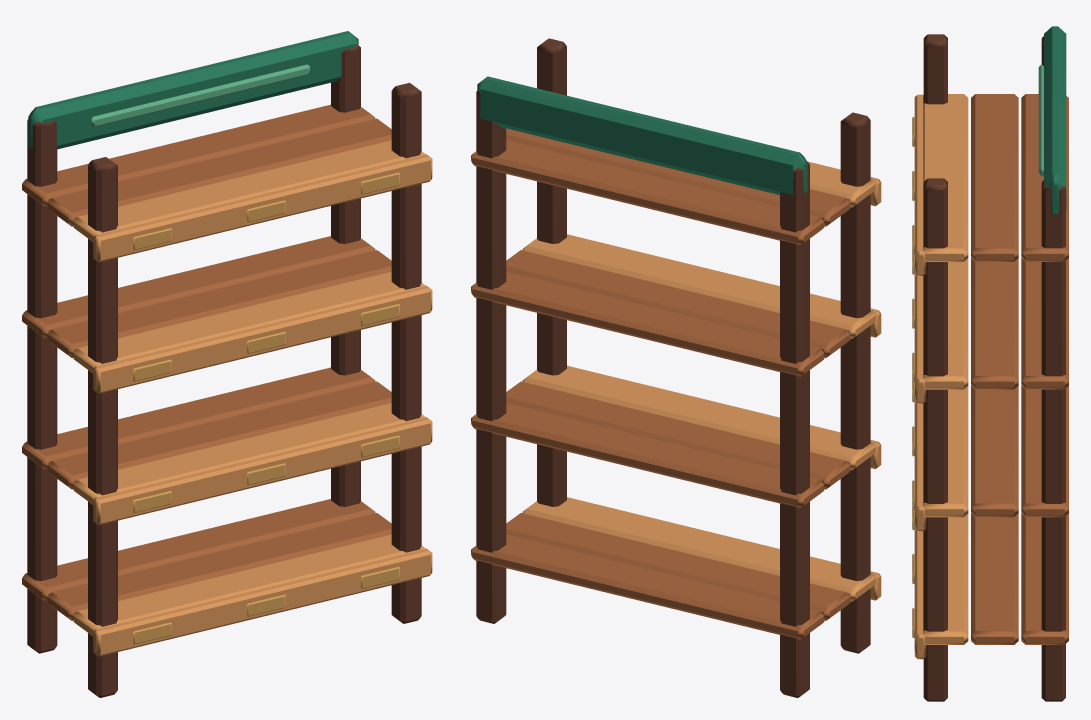
The model's file is shelf_shop.glb.
The picture shows the model from 3 angles, left to right: view 1: azimuth 30°, elevation 25°; view 2: azimuth 150°, elevation 25°; view 3: azimuth 270°, elevation 25°; orthographic projection. The views are drawn at different scales.
Visible parts, largest first — view 1: Shelf; view 2: Shelf; view 3: Shelf.
Part boxes in pixels (left/top/right/bottom): Shelf: left=22, top=31, right=432, bottom=697; Shelf: left=471, top=38, right=881, bottom=697; Shelf: left=912, top=26, right=1068, bottom=701.
Size of the model in its own units: 1.15 by 1.79 by 0.502.
